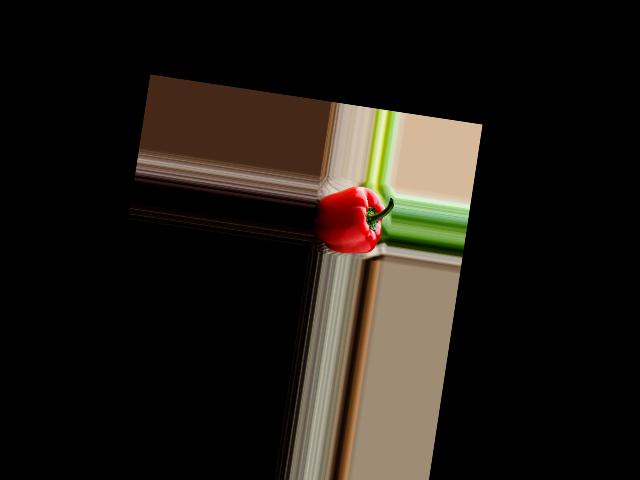bell_pepper: (308, 178, 394, 257)
